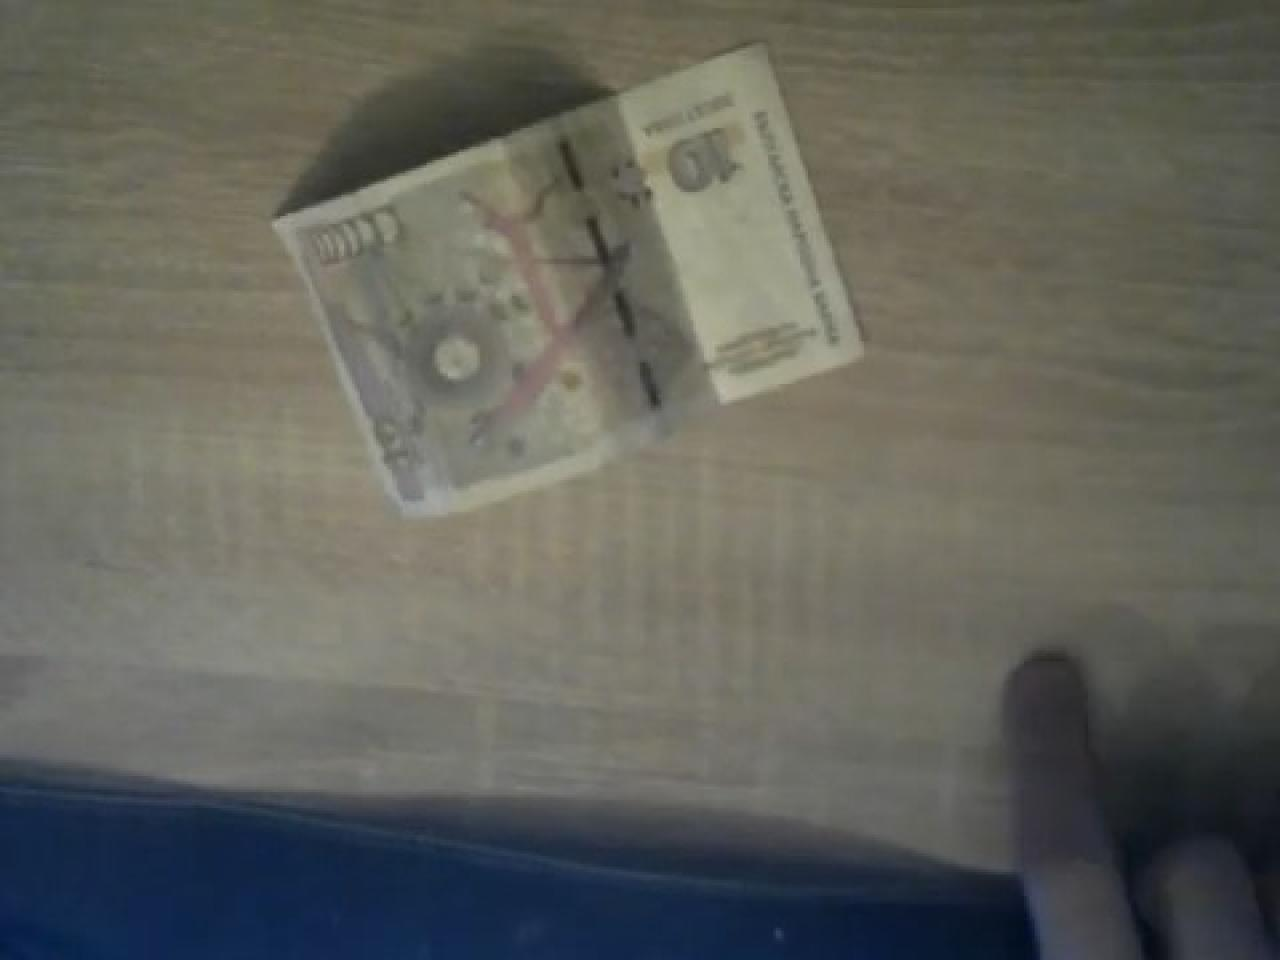10leva: (272, 40, 867, 517)
